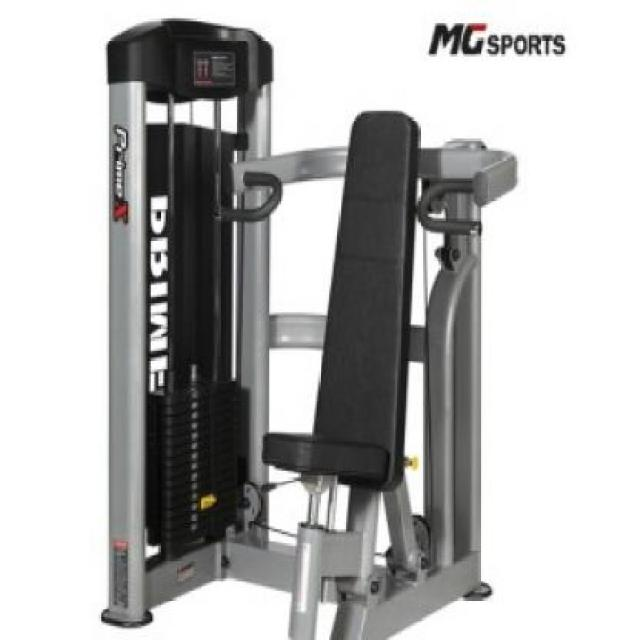shoulder press machine: (80, 9, 525, 640)
